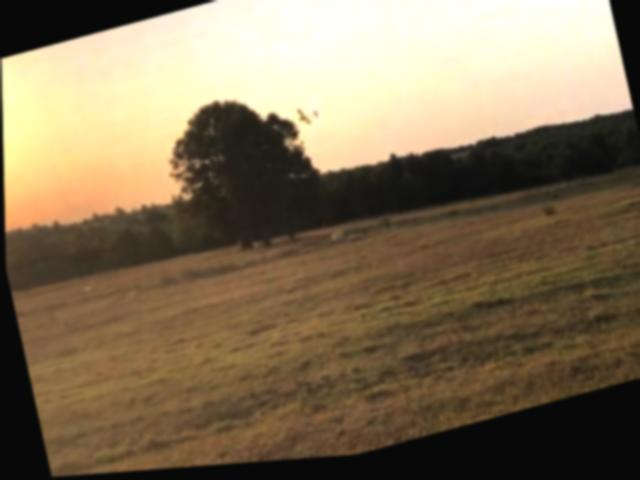uav: (293, 107, 320, 133)
